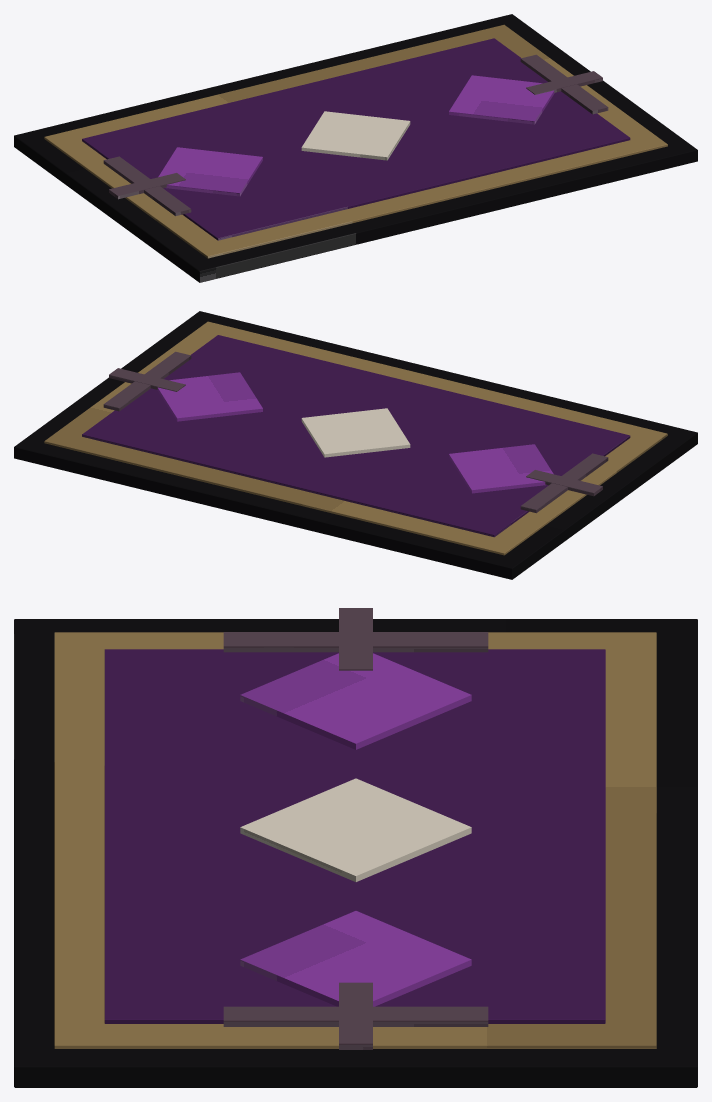
File: gothic_bedroom_rug_violet.glb
3 views of the same model, one above another, from view 1: azimuth 30°, elevation 25°; view 2: azimuth 150°, elevation 25°; view 3: azimuth 270°, elevation 25° (orthographic). The views are drawn at different scales.
Visible parts, largest first — view 1: RugField, RugBase, RugBorder, GothicDiamond0.0, GothicDiamond0.65, GothicDiamond-0.65, RugCrossV0.92, RugCrossV-0.92, RugCrossH-0.92, RugCrossH0.92; view 2: RugField, RugBase, RugBorder, GothicDiamond0.0, GothicDiamond0.65, GothicDiamond-0.65, RugCrossV0.92, RugCrossV-0.92, RugCrossH-0.92, RugCrossH0.92; view 3: RugField, RugBase, RugBorder, GothicDiamond0.0, GothicDiamond-0.65, GothicDiamond0.65, RugCrossV0.92, RugCrossV-0.92, RugCrossH0.92, RugCrossH-0.92.
Boxes of the visible parts, box(x1,y1,x2,y2) form: RugField: box(82, 38, 630, 240); RugBase: box(14, 14, 697, 282); RugBorder: box(44, 24, 667, 258); GothicDiamond0.0: box(301, 111, 410, 160); GothicDiamond0.65: box(449, 75, 554, 124); GothicDiamond-0.65: box(158, 147, 262, 196); RugCrossV0.92: box(520, 54, 608, 114); RugCrossV-0.92: box(103, 156, 191, 216); RugCrossH-0.92: box(109, 173, 185, 199); RugCrossH0.92: box(526, 71, 602, 94); RugField: box(82, 335, 630, 537); RugBase: box(14, 311, 697, 579); RugBorder: box(44, 321, 667, 555); GothicDiamond0.0: box(301, 408, 410, 457); GothicDiamond0.65: box(157, 372, 262, 421); GothicDiamond-0.65: box(449, 444, 553, 493); RugCrossV0.92: box(103, 351, 191, 411); RugCrossV-0.92: box(520, 453, 608, 513); RugCrossH-0.92: box(526, 470, 602, 496); RugCrossH0.92: box(109, 368, 185, 391); RugField: box(104, 649, 605, 1023); RugBase: box(14, 619, 697, 1087); RugBorder: box(54, 632, 656, 1048); GothicDiamond0.0: box(240, 778, 471, 881); GothicDiamond-0.65: box(240, 653, 471, 749); GothicDiamond0.65: box(240, 911, 471, 1006); RugCrossV0.92: box(223, 1006, 488, 1026); RugCrossV-0.92: box(223, 632, 488, 652); RugCrossH0.92: box(339, 982, 372, 1049); RugCrossH-0.92: box(339, 608, 372, 670).
Bounding box in the file's own units: 2.2 × 0.088 × 1.42.
Materials: 1 (1 with a texture image).
